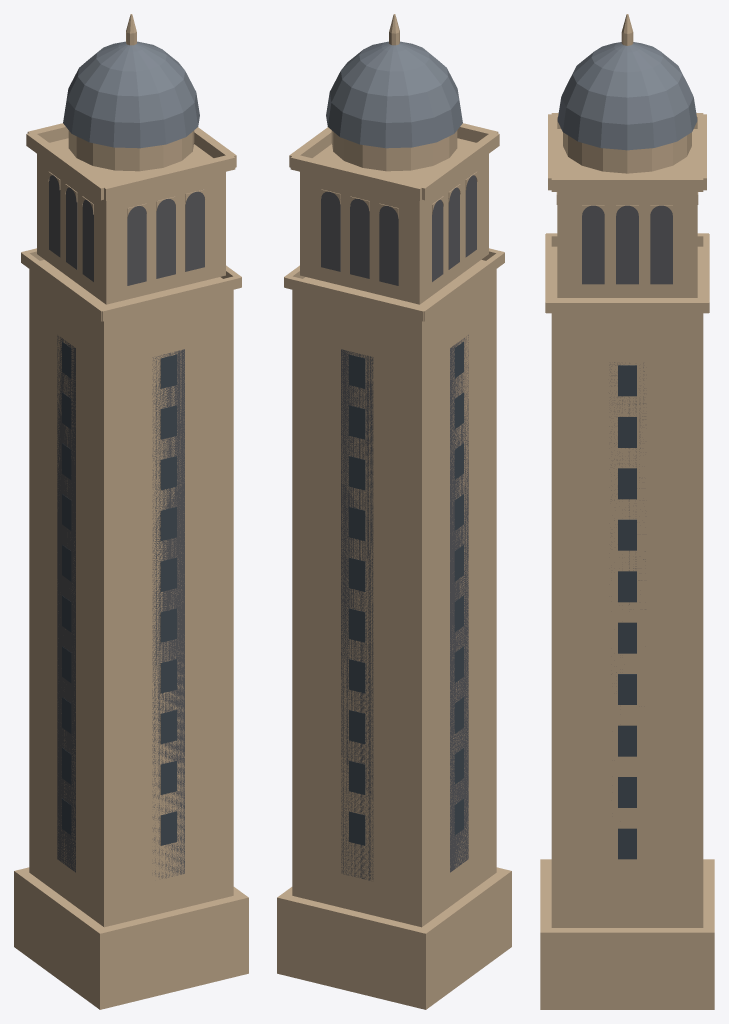
Rendered from ca_bell_tower.glb.
The picture shows the model from 3 angles, left to right: view 1: azimuth 30°, elevation 25°; view 2: azimuth 150°, elevation 25°; view 3: azimuth 270°, elevation 25°; orthographic projection.
Parts seen in each view (by area): view 1: ca_bell_tower; view 2: ca_bell_tower; view 3: ca_bell_tower.
Part boxes in pixels (bbox=[...]): ca_bell_tower: bbox=[14, 14, 248, 1009]; ca_bell_tower: bbox=[277, 14, 511, 1009]; ca_bell_tower: bbox=[540, 14, 714, 1009].
Size of the model in its own units: 9.2 by 55.9 by 9.2.
